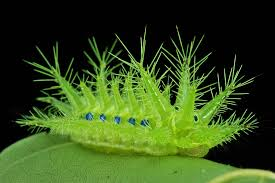Pest! (nettle_caterpillar): (18, 36, 257, 160)
